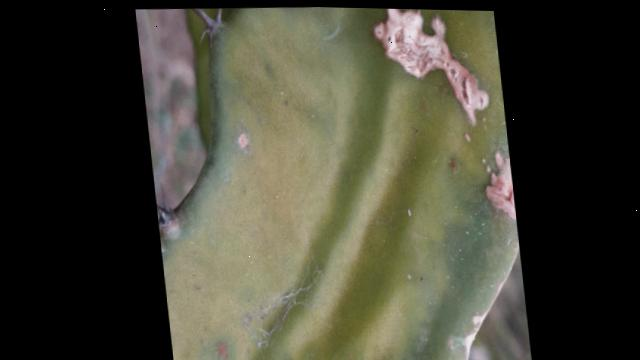stemcanker: (363, 11, 508, 236), (235, 118, 278, 177)
